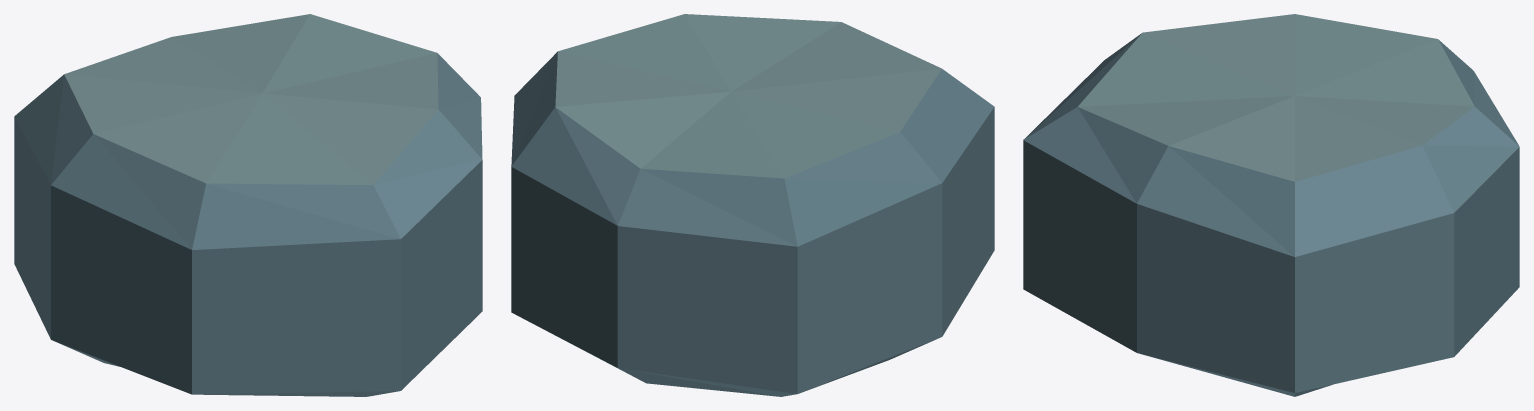
Rendered from rock1.glb.
3 renders of one model, left to right at view 1: azimuth 30°, elevation 25°; view 2: azimuth 150°, elevation 25°; view 3: azimuth 270°, elevation 25°, orthographic.
Visible parts, largest first — view 1: rock1; view 2: rock1; view 3: rock1.
Boxes of the visible parts, left/top/right/bottom form: rock1: left=14, top=14, right=482, bottom=396; rock1: left=511, top=14, right=994, bottom=396; rock1: left=1023, top=14, right=1519, bottom=396.
Size of the model in its own units: 2.03 by 1.06 by 2.07.
